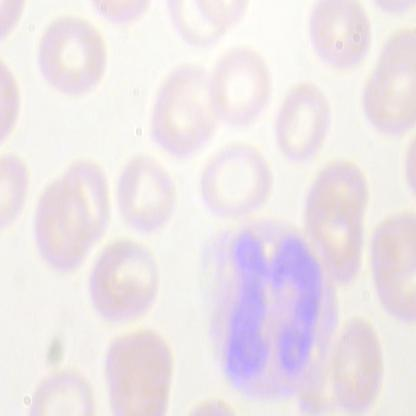RBC: (146, 60, 226, 164), (84, 236, 172, 327), (27, 14, 115, 96), (190, 142, 274, 222), (330, 316, 395, 415), (101, 330, 173, 416), (204, 46, 274, 134), (110, 152, 180, 240), (272, 77, 336, 168), (50, 159, 116, 247), (367, 205, 415, 322), (302, 0, 372, 74)
WBC: (185, 212, 341, 402)
